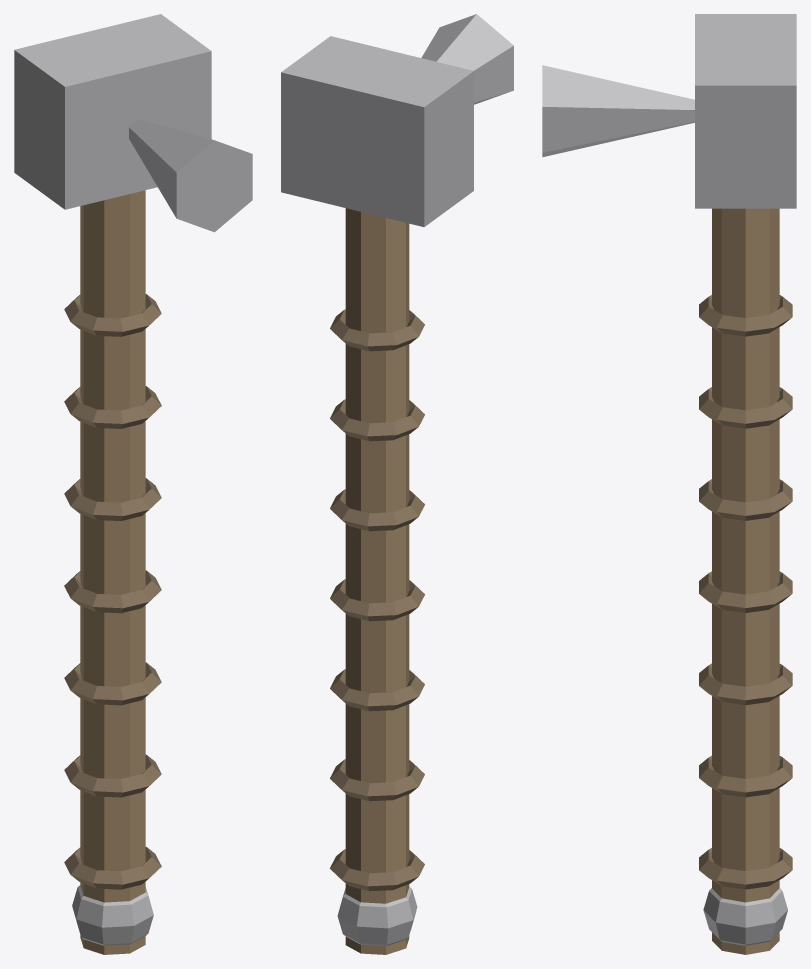
Rendered from hammer.dae.
3 renders of one model, left to right at view 1: azimuth 30°, elevation 25°; view 2: azimuth 150°, elevation 25°; view 3: azimuth 270°, elevation 25°, orthographic. The views are drawn at different scales.
Parts seen in each view (by area): view 1: Cylinder, Cube, Cone, Sphere, Torus, Torus.003, Torus.001, Torus.006, Torus.005, Torus.004, Torus.002; view 2: Cylinder, Cube, Cone, Sphere, Torus.006, Torus.005, Torus, Torus.004, Torus.001, Torus.003, Torus.002; view 3: Cylinder, Cube, Cone, Sphere, Torus.006, Torus.005, Torus, Torus.002, Torus.001, Torus.004, Torus.003.
Part boxes in pixels (x1,y1,x2,y2): Cylinder: [80, 190, 145, 954]; Cube: [14, 14, 211, 209]; Cone: [129, 119, 252, 232]; Sphere: [72, 885, 153, 945]; Torus: [64, 847, 161, 889]; Torus.003: [64, 570, 161, 613]; Torus.001: [64, 754, 161, 797]; Torus.006: [64, 294, 161, 336]; Torus.005: [64, 386, 161, 428]; Torus.004: [64, 478, 161, 520]; Torus.002: [64, 662, 161, 705]; Cylinder: [345, 208, 409, 954]; Cube: [281, 36, 473, 226]; Cone: [421, 14, 513, 104]; Sphere: [337, 887, 417, 946]; Torus.006: [330, 309, 424, 351]; Torus.005: [330, 399, 424, 441]; Torus: [330, 849, 424, 891]; Torus.004: [330, 489, 424, 531]; Torus.001: [330, 759, 424, 801]; Torus.003: [330, 579, 424, 621]; Torus.002: [330, 669, 424, 711]; Cylinder: [712, 208, 779, 954]; Cube: [695, 14, 796, 208]; Cone: [542, 65, 694, 157]; Sphere: [703, 888, 787, 945]; Torus.006: [699, 295, 792, 336]; Torus.005: [699, 387, 792, 428]; Torus: [699, 848, 792, 889]; Torus.002: [699, 663, 792, 705]; Torus.001: [699, 755, 792, 797]; Torus.004: [699, 479, 792, 520]; Torus.003: [699, 571, 792, 612].
Size of the model in its own units: 20 by 30 by 117.
